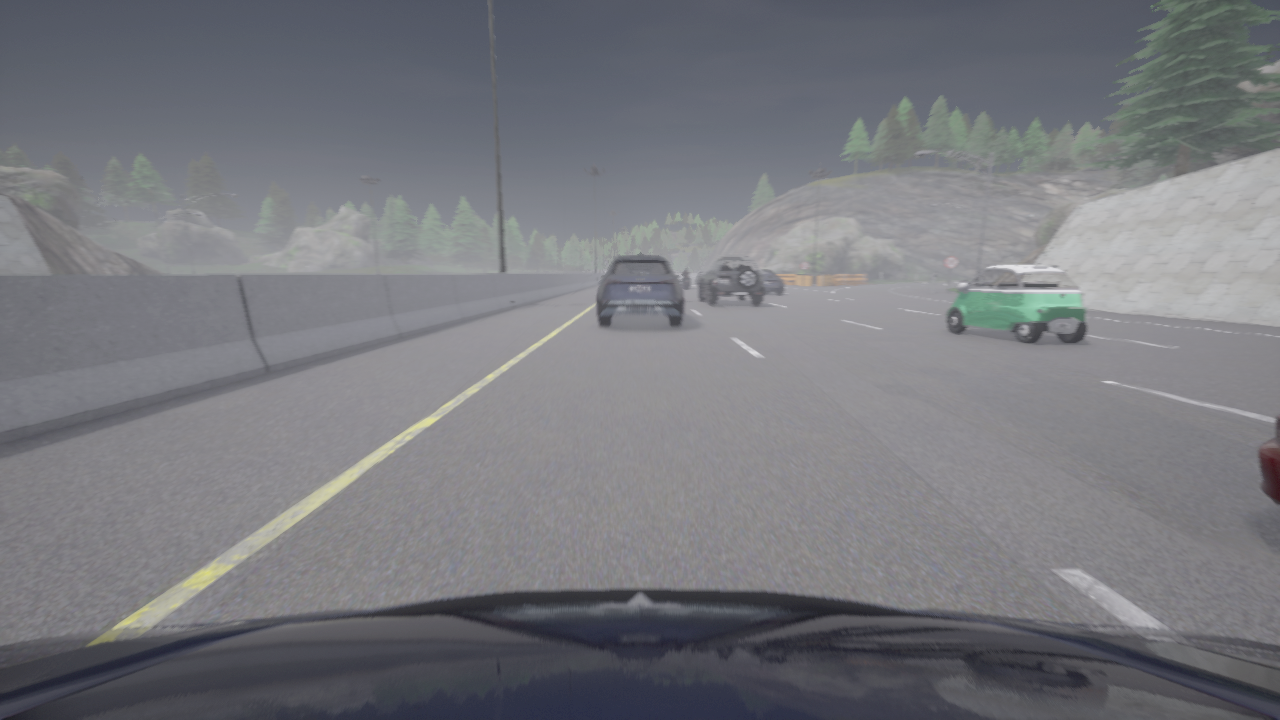cyclist: (0, 588, 1279, 719), (946, 264, 1087, 344), (597, 255, 682, 326), (698, 256, 764, 305), (1258, 414, 1279, 506), (759, 270, 783, 294), (696, 271, 705, 284), (683, 274, 689, 289)
